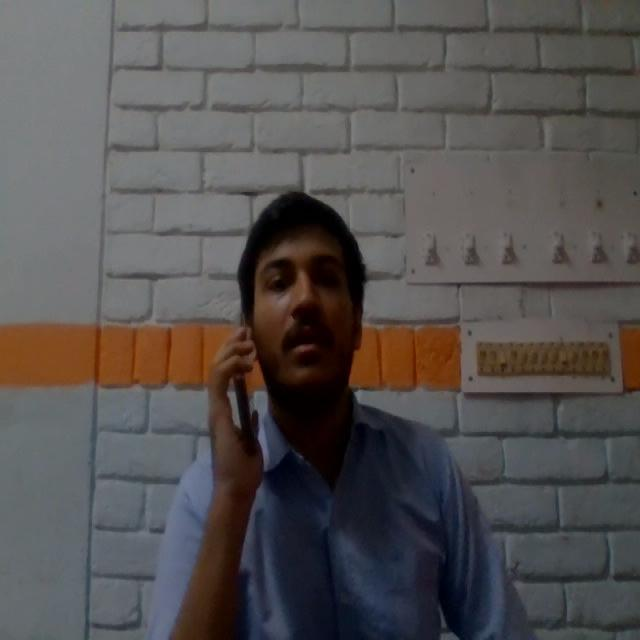oncall: (149, 186, 543, 640)
phone: (226, 302, 263, 452)
